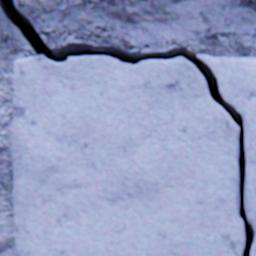broken_brick: (13, 57, 244, 255), (197, 56, 255, 255)
crack: (0, 0, 253, 255)
